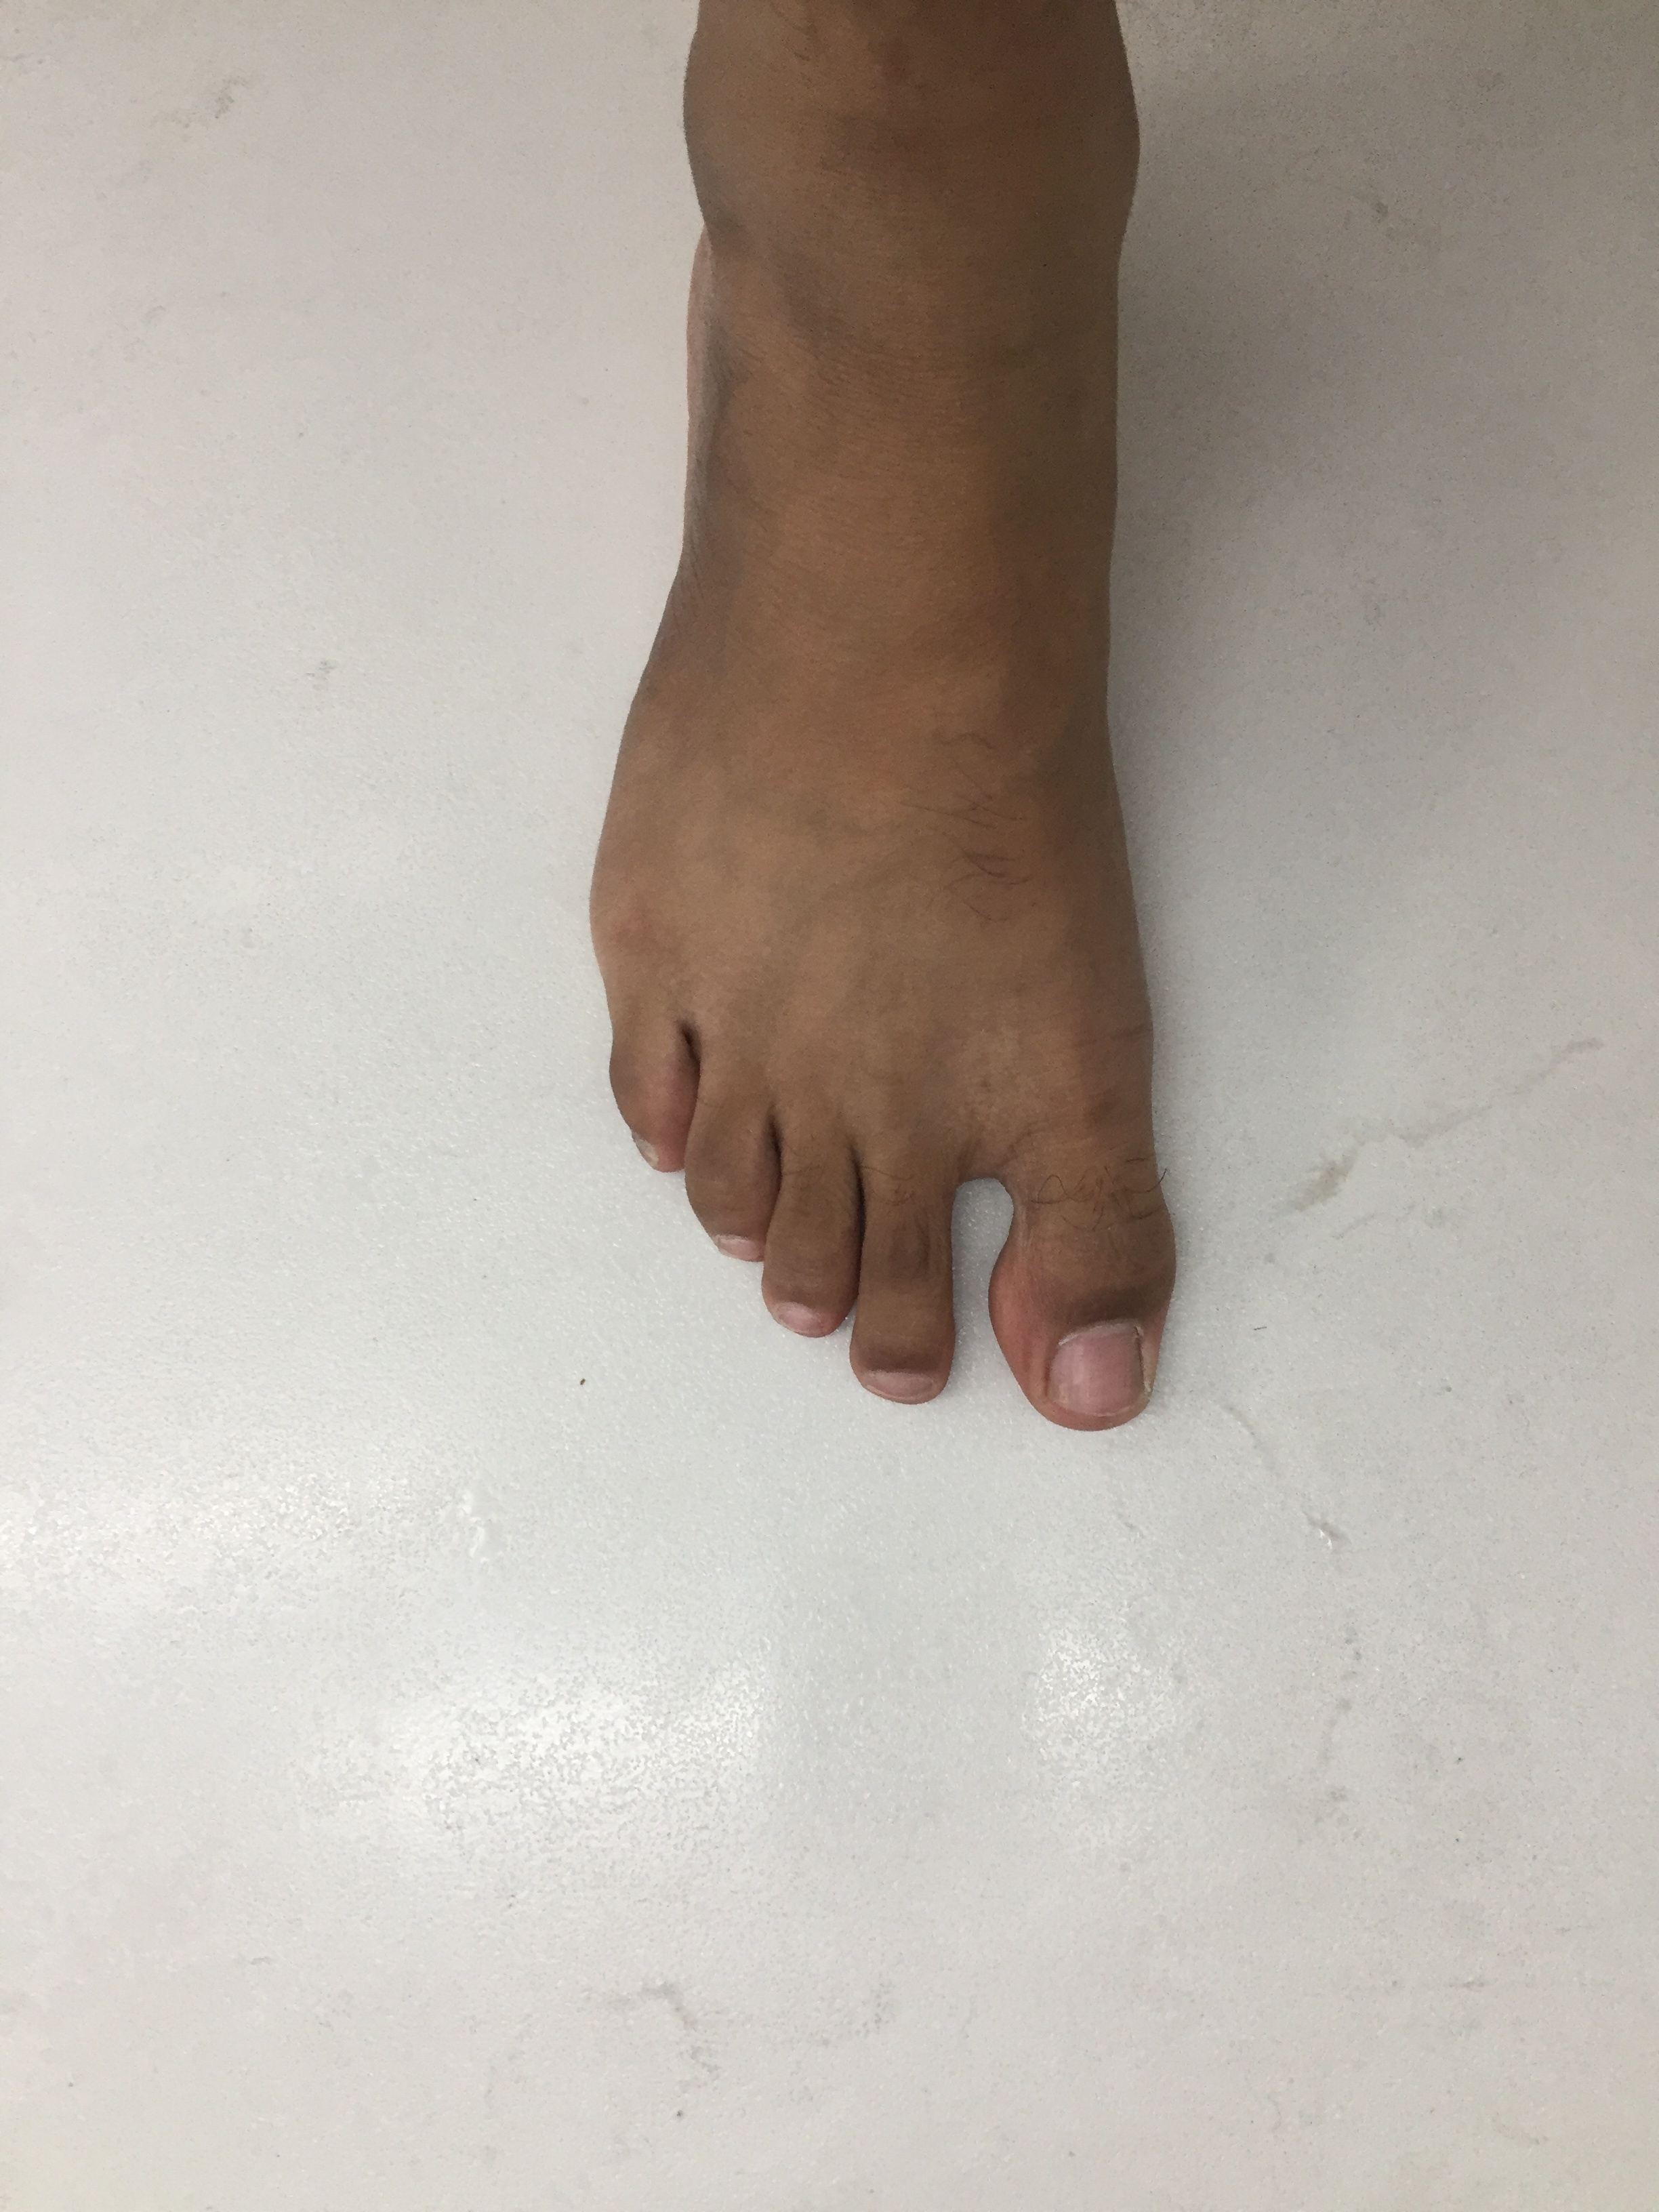feet: (471, 19, 1206, 1432)
